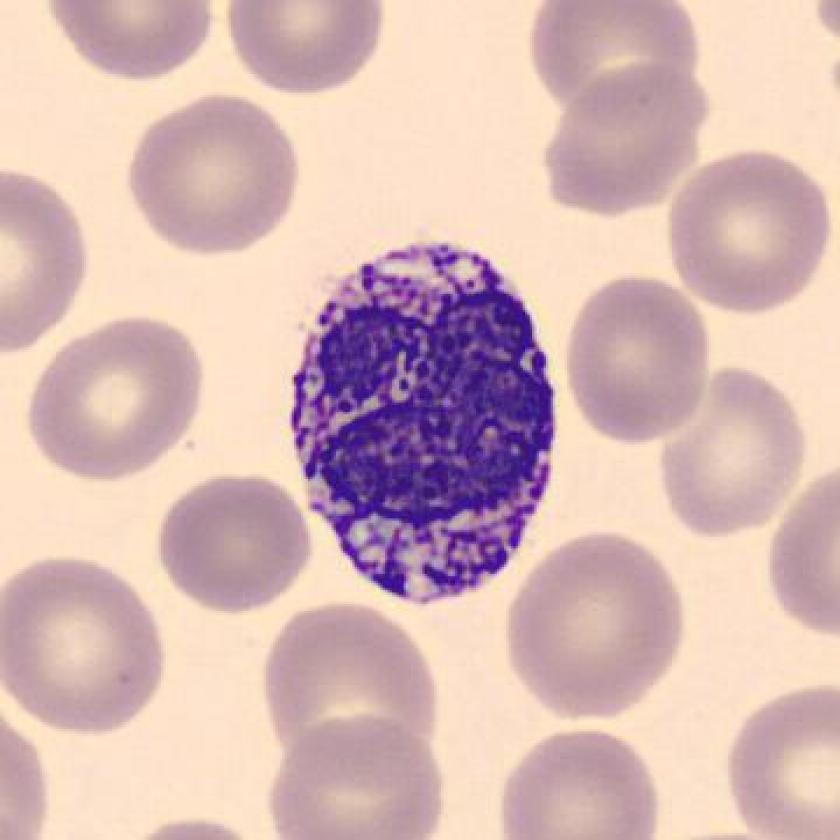basophil: (281, 230, 570, 619)
